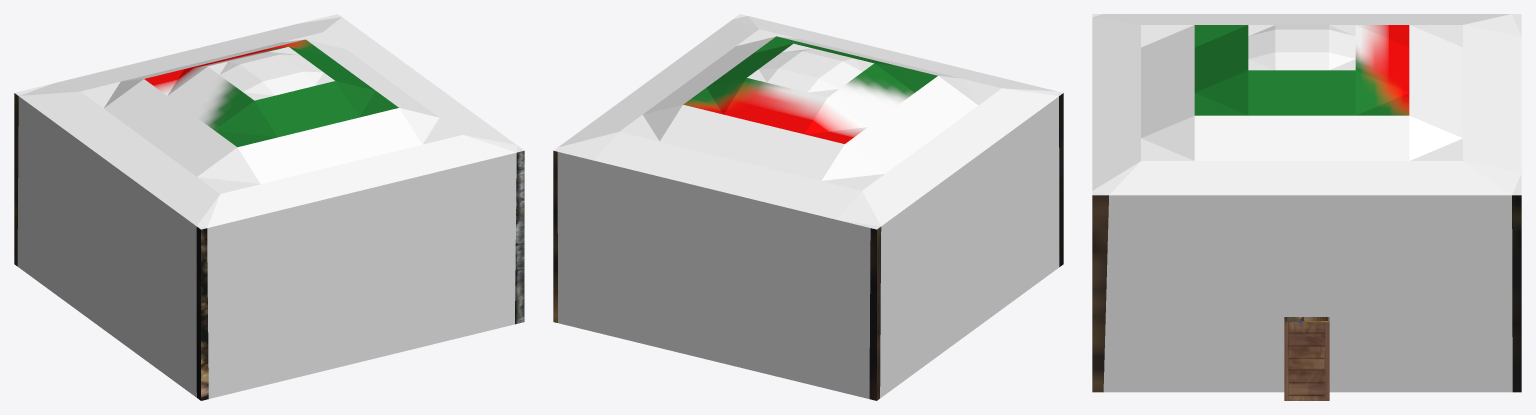
The model's file is bul_out_house.dae.
3 renders of one model, left to right at view 1: azimuth 30°, elevation 25°; view 2: azimuth 150°, elevation 25°; view 3: azimuth 270°, elevation 25°, orthographic. The views are drawn at different scales.
Parts seen in each view (by area): view 1: kallanka; view 2: kallanka; view 3: kallanka.
Boxes of the visible parts, x1,y1,x2,y2 form: kallanka: (14,14,524,400); kallanka: (553,14,1063,400); kallanka: (1092,14,1521,400).
Size of the model in its own units: 19.63 by 19.06 by 12.92.
1 material, 1 textured.
